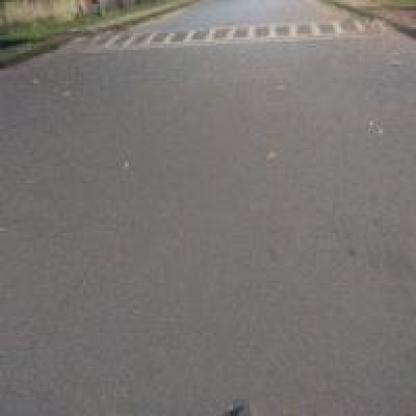Speed Bump: (84, 12, 374, 50)
